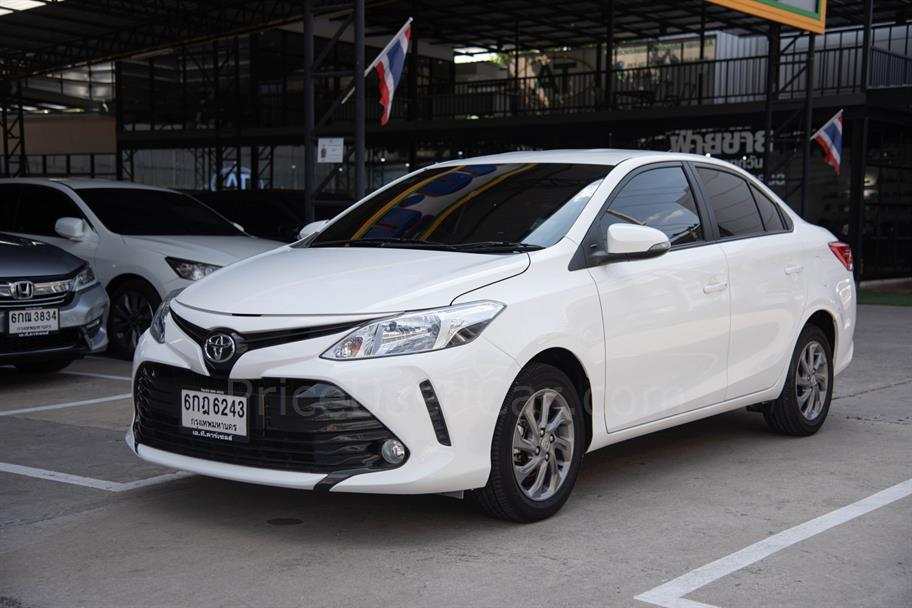sedan: (124, 145, 859, 522)
